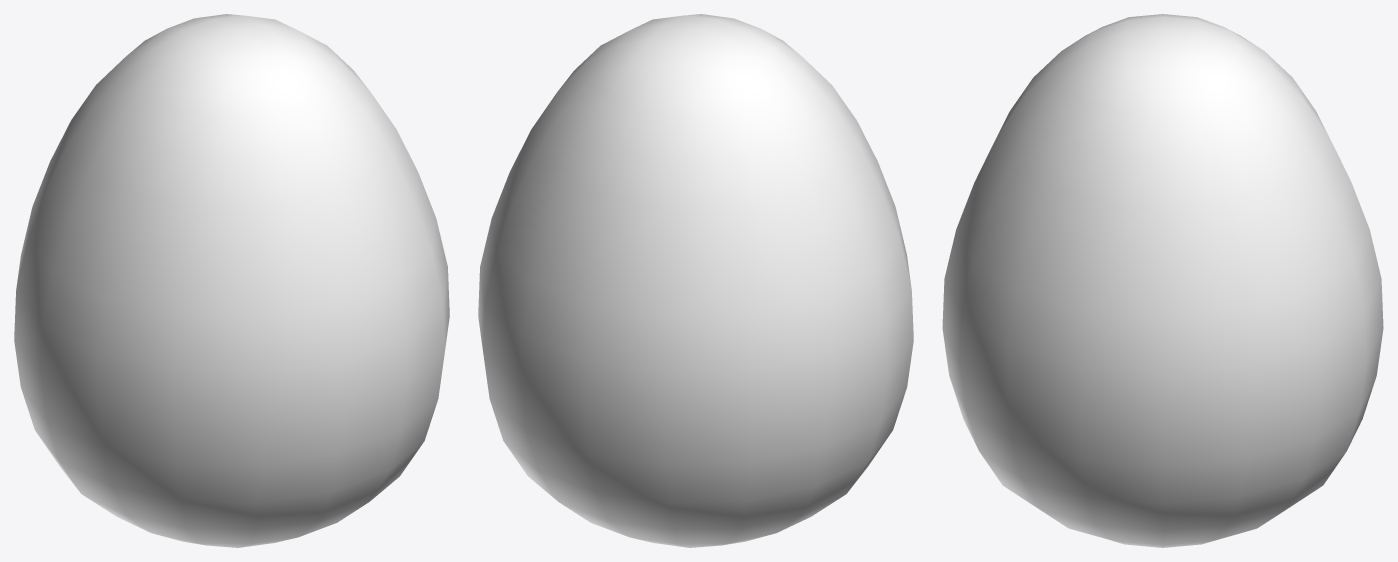
The model's file is Egg_03.fbx.
3 renders of one model, left to right at view 1: azimuth 30°, elevation 25°; view 2: azimuth 150°, elevation 25°; view 3: azimuth 270°, elevation 25°, orthographic.
Visible parts, largest first — view 1: egg; view 2: egg; view 3: egg.
Part boxes in pixels (left/top/right/bottom): egg: left=14, top=14, right=449, bottom=547; egg: left=478, top=14, right=913, bottom=547; egg: left=942, top=14, right=1383, bottom=547.
Bounding box in the file's own units: 9.21 × 11.47 × 9.21.
Materials: 1 (1 with a texture image).
